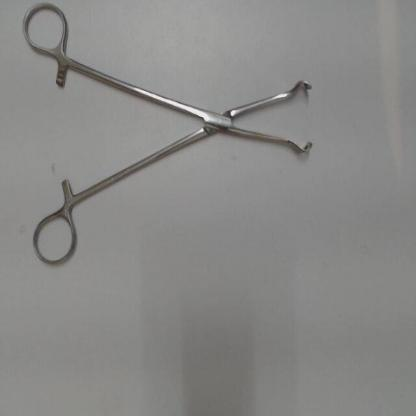8 Babcock Tissue Forceps: (16, 1, 324, 275)
